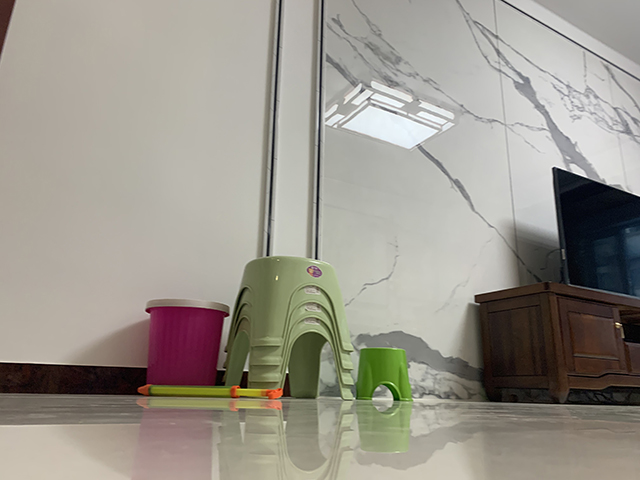cabinet: (474, 280, 640, 405)
stool: (222, 255, 356, 400), (355, 347, 413, 402)
trashcan: (144, 298, 230, 386)
